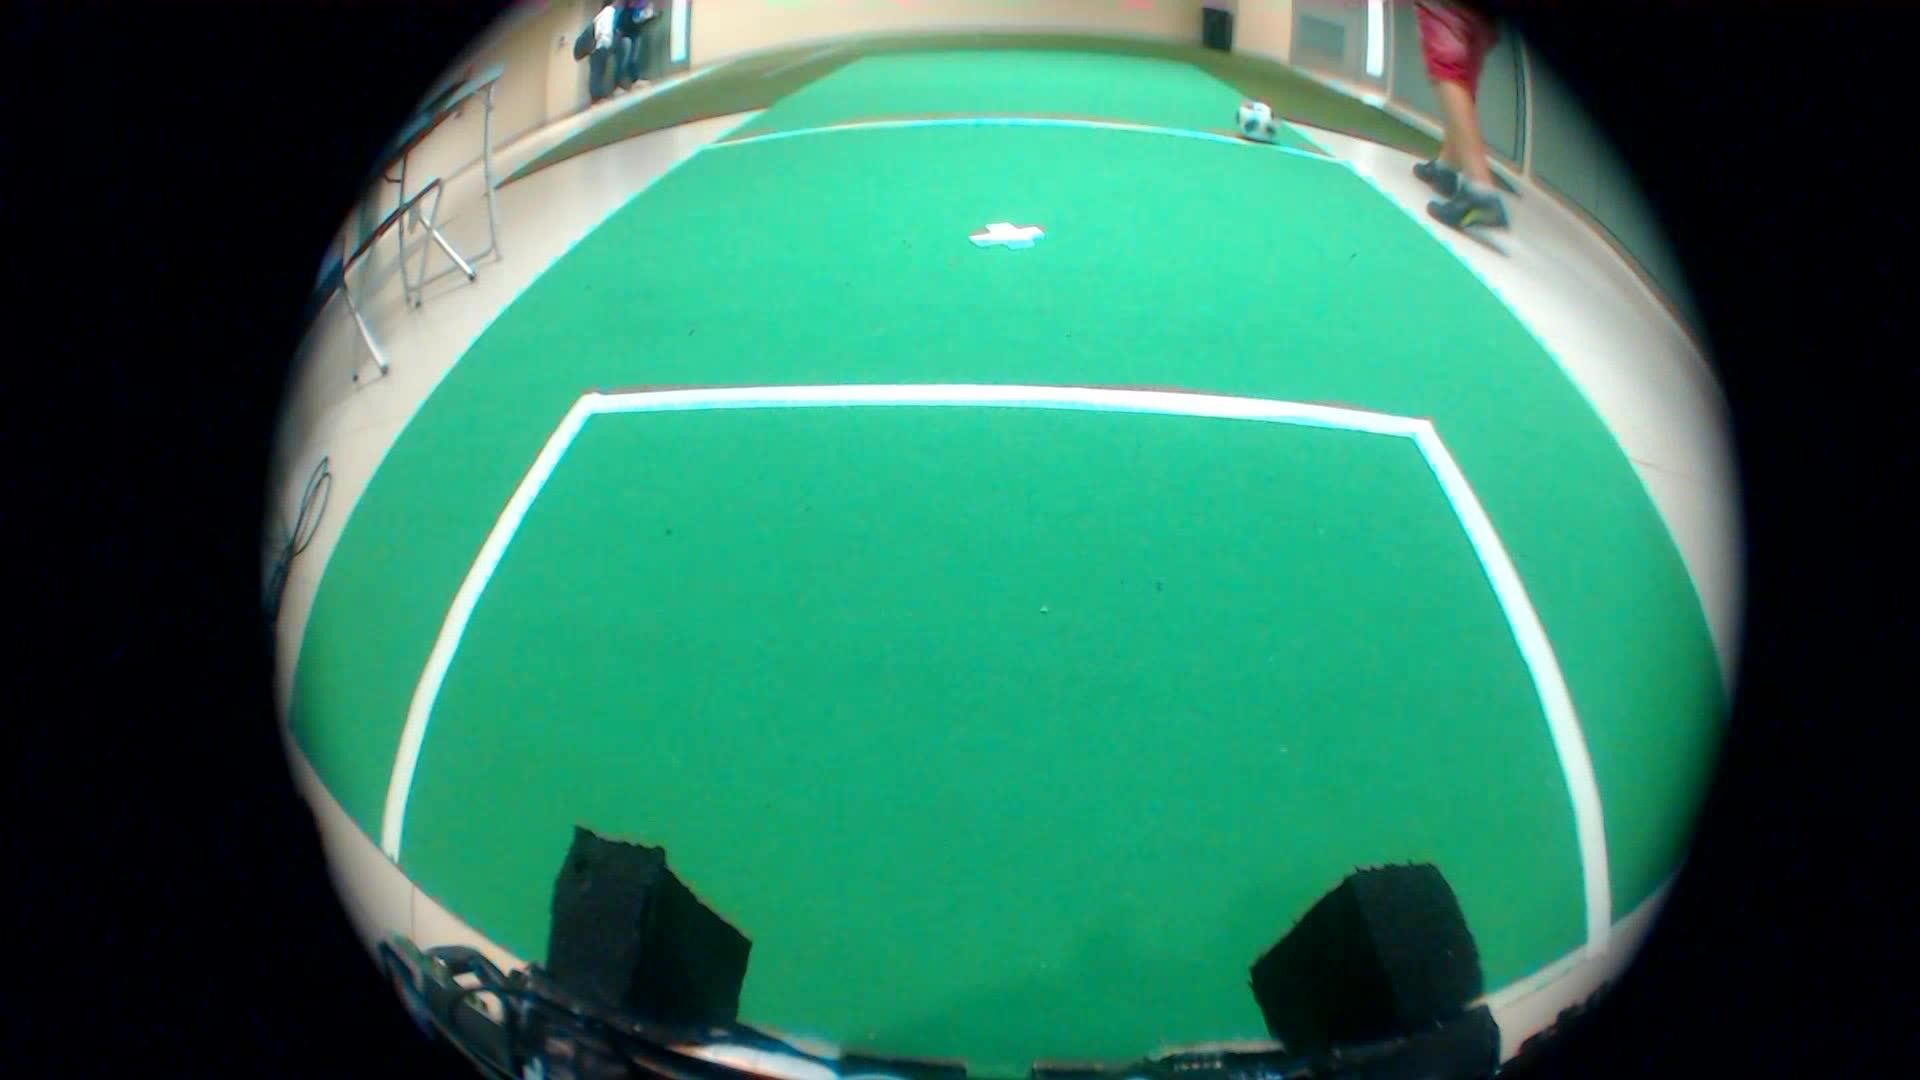ball: (1225, 88, 1274, 145)
